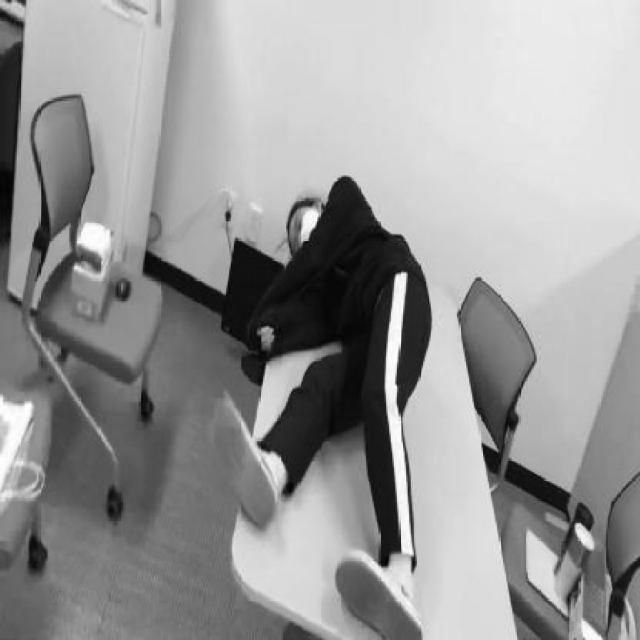person: (212, 175, 434, 640)
